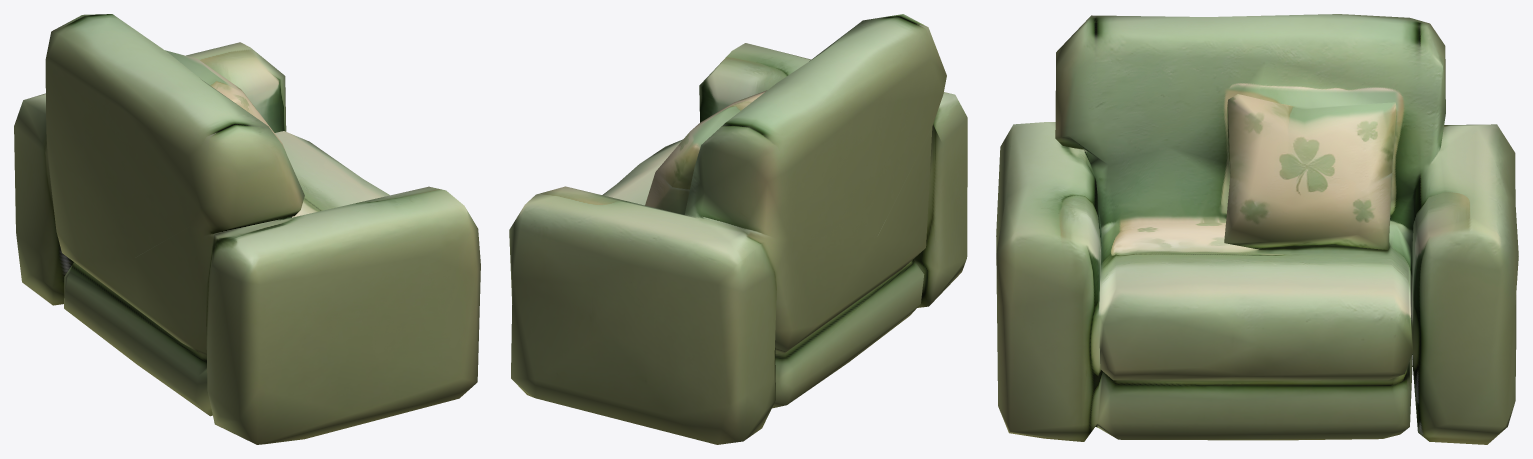
3 views of the same model, side by side, from view 1: azimuth 30°, elevation 25°; view 2: azimuth 150°, elevation 25°; view 3: azimuth 270°, elevation 25° (orthographic). The views are drawn at different scales.
Visible parts, largest first — view 1: tripo_node_e28d6072-214b-483a-b202-79662901132e; view 2: tripo_node_e28d6072-214b-483a-b202-79662901132e; view 3: tripo_node_e28d6072-214b-483a-b202-79662901132e.
Part boxes in pixels (bbox=[...]): tripo_node_e28d6072-214b-483a-b202-79662901132e: bbox=[14, 14, 480, 444]; tripo_node_e28d6072-214b-483a-b202-79662901132e: bbox=[509, 14, 967, 444]; tripo_node_e28d6072-214b-483a-b202-79662901132e: bbox=[996, 14, 1518, 444].
Bounding box in the file's own units: 0.6103 × 0.6854 × 0.9977.
Materials: 1 (1 with a texture image).
